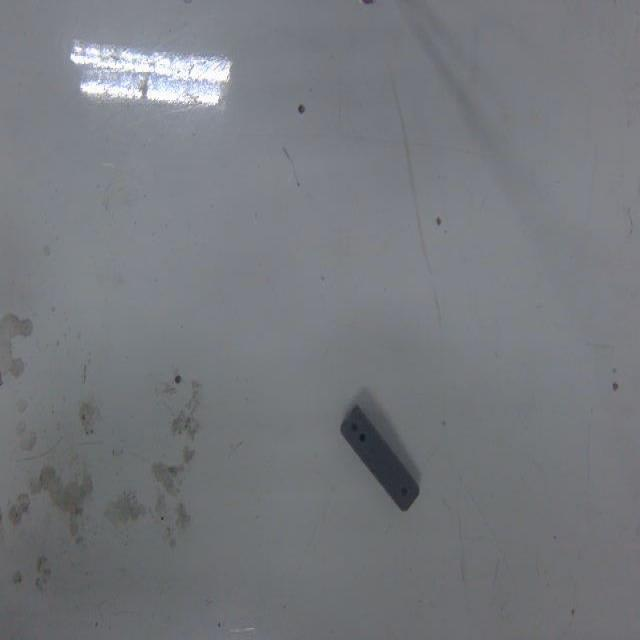grey: (338, 403, 422, 514)
head: (400, 485, 410, 500)
